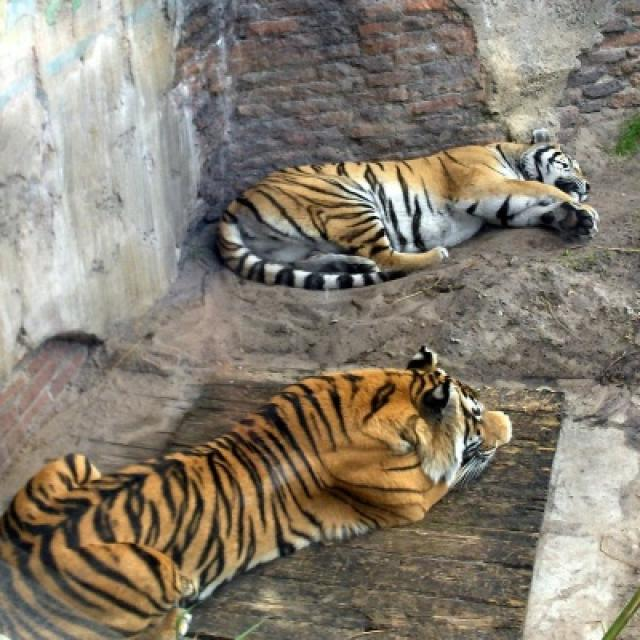Tiger: (6, 357, 516, 635), (218, 136, 604, 294)
